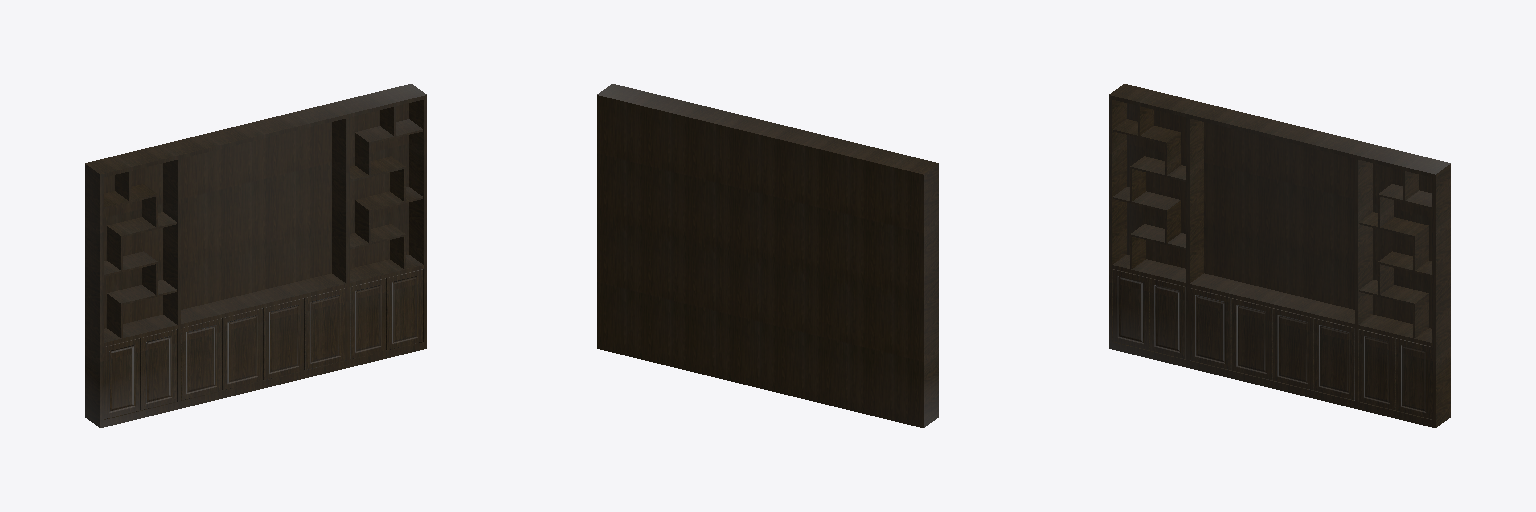
The picture shows the model from 3 angles: view 1: azimuth 30°, elevation 25°; view 2: azimuth 150°, elevation 25°; view 3: azimuth 330°, elevation 25°; orthographic projection.
Parts seen in each view (by area): view 1: solid_001; view 2: solid_001; view 3: solid_001.
Boxes of the visible parts, x1,y1,x2,y2 form: solid_001: [85, 84, 426, 427]; solid_001: [597, 84, 938, 427]; solid_001: [1109, 84, 1450, 427].
Size of the model in its own units: 3.64 by 2.7 by 0.3.
Materials: 1 (1 with a texture image).